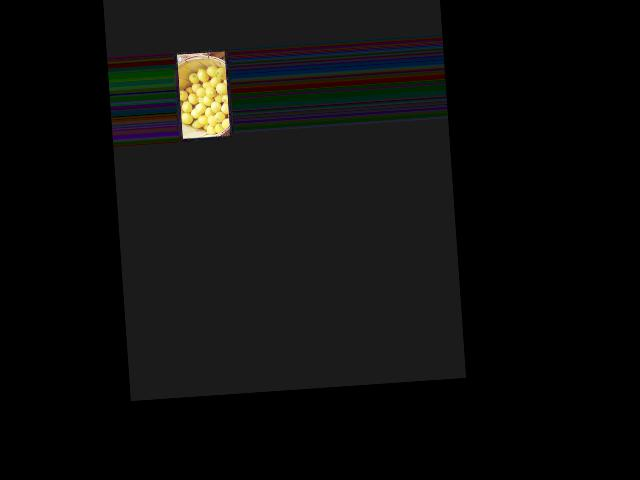lemon: (180, 90, 190, 102)
